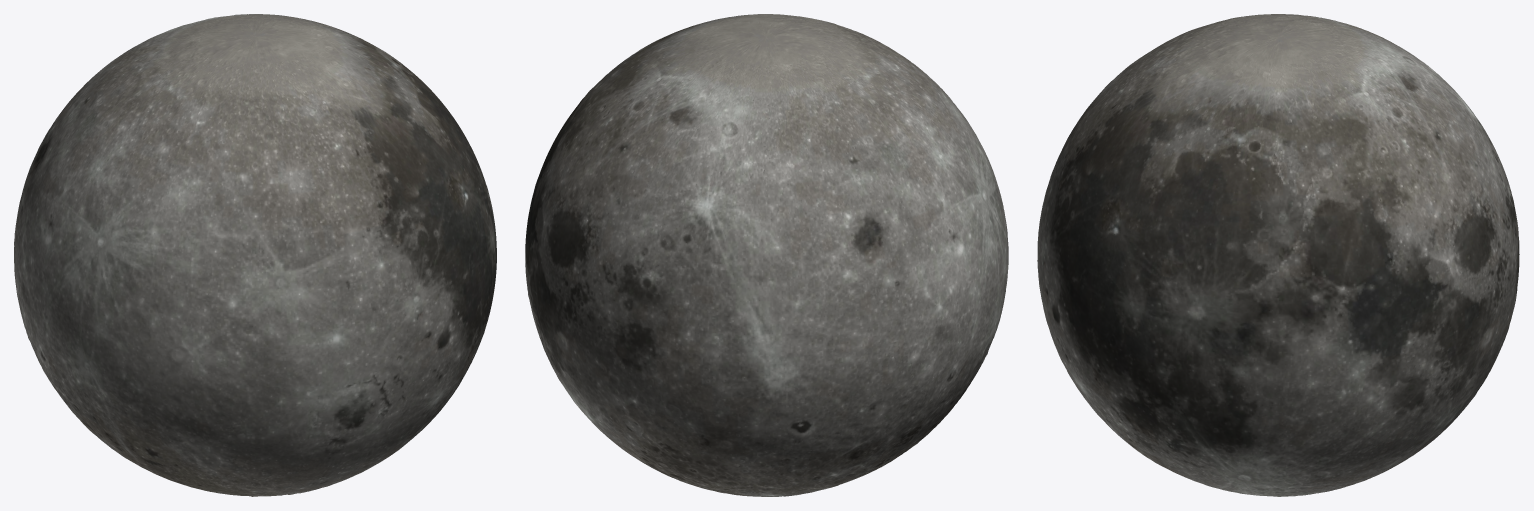
Rendered from luna_cientifica.glb.
3 views of the same model, side by side, from view 1: azimuth 30°, elevation 25°; view 2: azimuth 150°, elevation 25°; view 3: azimuth 270°, elevation 25° (orthographic).
Parts seen in each view (by area): view 1: Moon; view 2: Moon; view 3: Moon.
Part boxes in pixels (x1=…): Moon: x1=14, y1=14, x2=496, y2=496; Moon: x1=525, y1=14, x2=1008, y2=496; Moon: x1=1037, y1=14, x2=1519, y2=496.
Bounding box in the file's own units: 2.01 × 2.01 × 2.01.
1 material, 1 textured.
